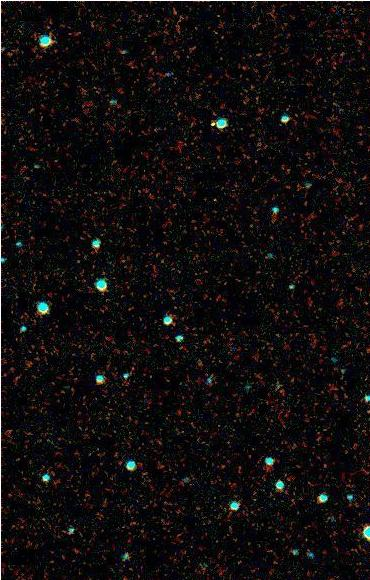star: (197, 108, 227, 138)
